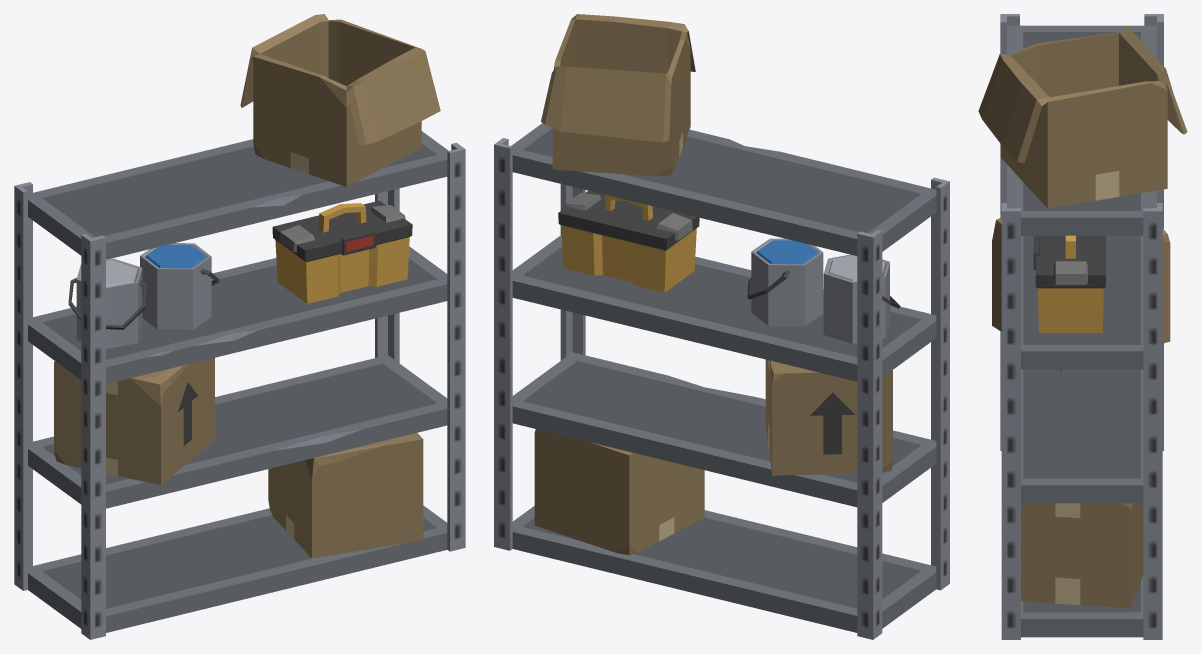
The model's file is SM_Prop_WorkShelf_01_Combined.fbx.
3 views of the same model, side by side, from view 1: azimuth 30°, elevation 25°; view 2: azimuth 150°, elevation 25°; view 3: azimuth 270°, elevation 25° (orthographic). The views are drawn at different scales.
Visible parts, largest first — view 1: SM_Prop_WorkShelf_01_Combined; view 2: SM_Prop_WorkShelf_01_Combined; view 3: SM_Prop_WorkShelf_01_Combined.
Boxes of the visible parts, bbox=[...] form: SM_Prop_WorkShelf_01_Combined: bbox=[14, 14, 465, 639]; SM_Prop_WorkShelf_01_Combined: bbox=[494, 14, 949, 639]; SM_Prop_WorkShelf_01_Combined: bbox=[978, 14, 1187, 639].
Size of the model in its own units: 181 by 228 by 81.22.
